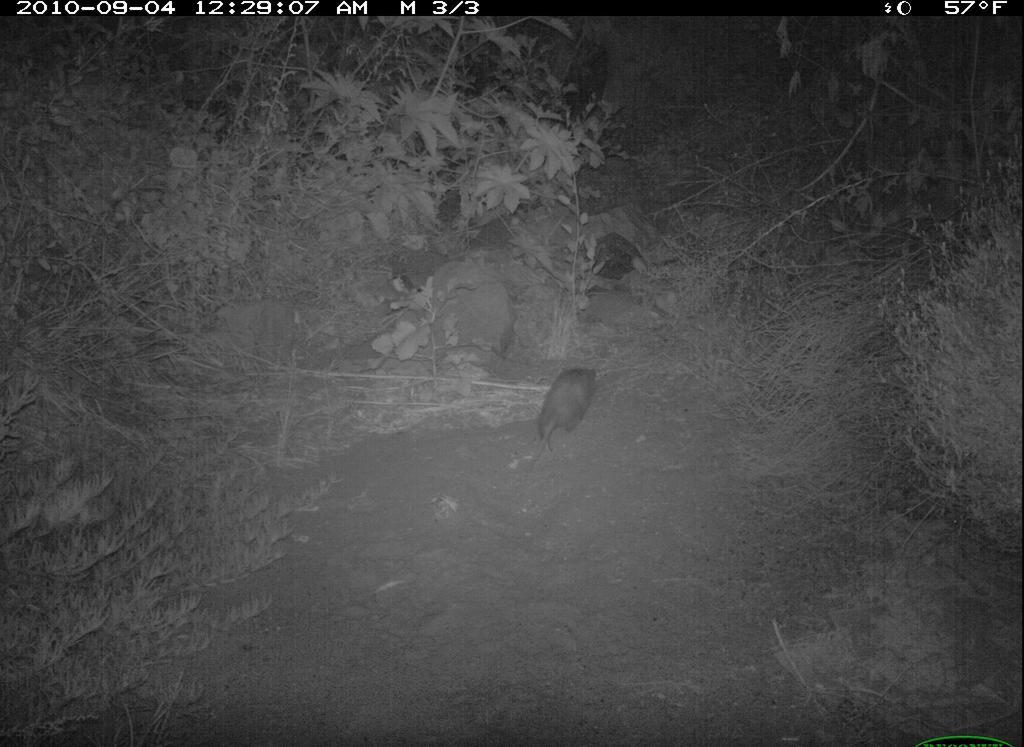opossum: (515, 353, 614, 463)
